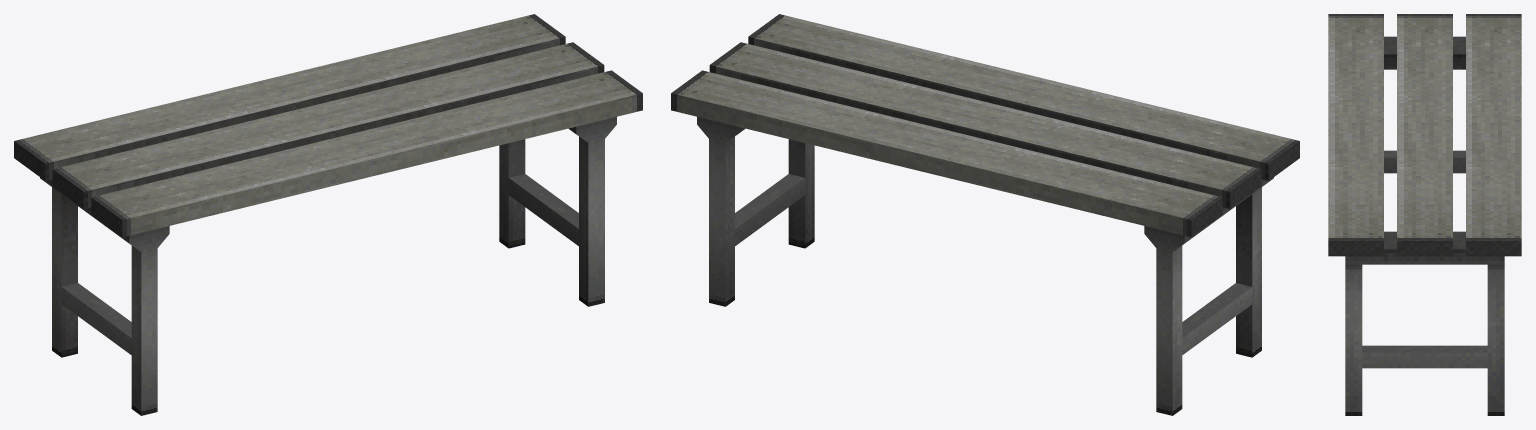
File: plastic-bench_clean.glb
3 views of the same model, side by side, from view 1: azimuth 30°, elevation 25°; view 2: azimuth 150°, elevation 25°; view 3: azimuth 270°, elevation 25° (orthographic). The views are drawn at different scales.
Visible parts, largest first — view 1: plastic-bench_clean-col; view 2: plastic-bench_clean-col; view 3: plastic-bench_clean-col.
Boxes of the visible parts, <box> form: plastic-bench_clean-col: <box>14,14,642,415</box>; plastic-bench_clean-col: <box>671,14,1299,415</box>; plastic-bench_clean-col: <box>1328,14,1521,415</box>.
Bounding box in the file's own units: 1 × 0.385 × 0.36.
Materials: 1 (1 with a texture image).
